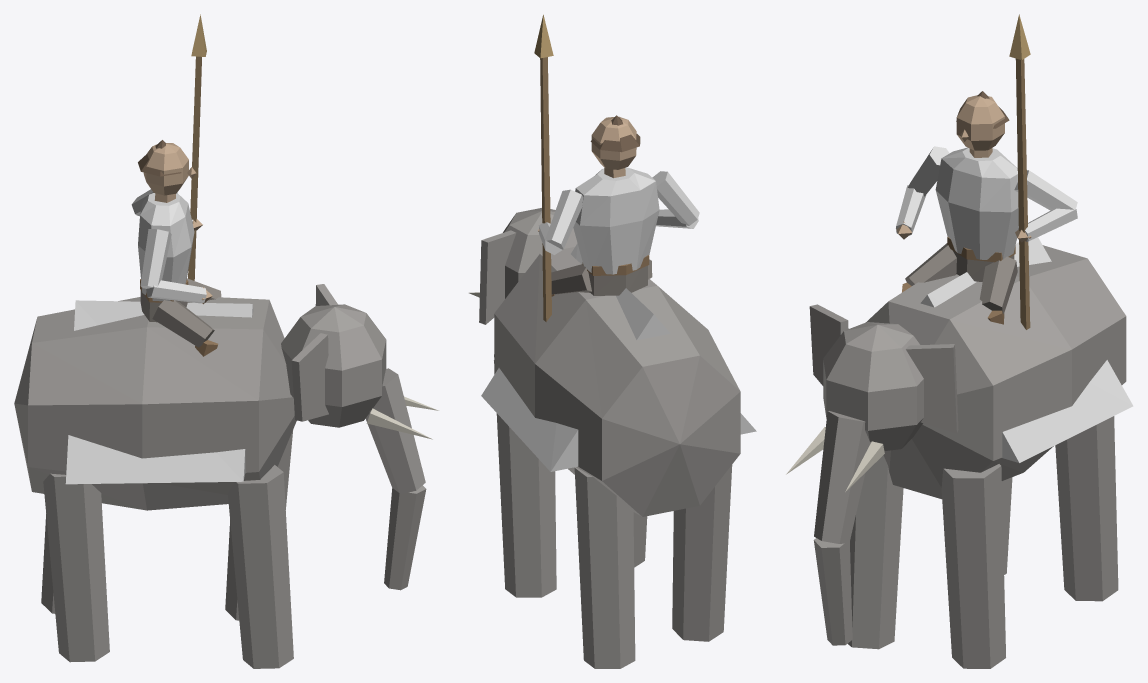
File: african-forest-elephant.glb
3 renders of one model, left to right at view 1: azimuth 30°, elevation 25°; view 2: azimuth 150°, elevation 25°; view 3: azimuth 270°, elevation 25°, orthographic. The views are drawn at different scales.
Parts seen in each view (by area): view 1: LOD0; view 2: LOD0; view 3: LOD0.
Part boxes in pixels (<box>): LOD0: <box>14,14,438,668</box>; LOD0: <box>469,14,756,668</box>; LOD0: <box>786,14,1133,668</box>.
Size of what is drawn, in the model's own units: 1.15 by 1.91 by 0.9602.
